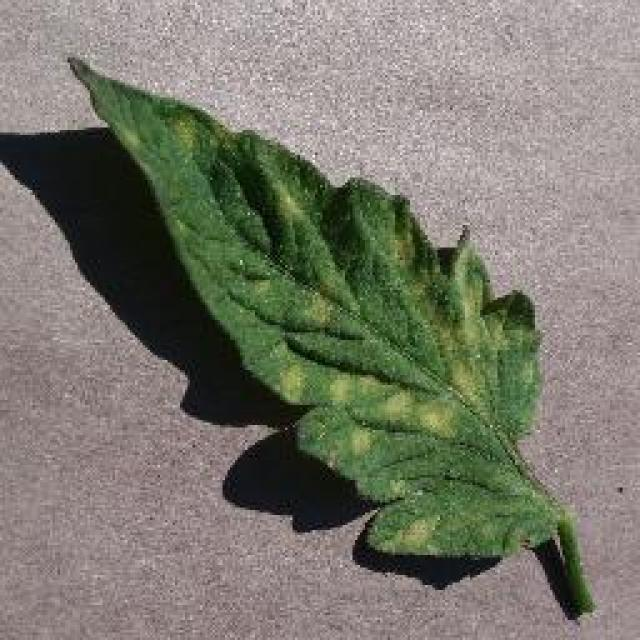Tomato mold leaf: (72, 50, 572, 568)
